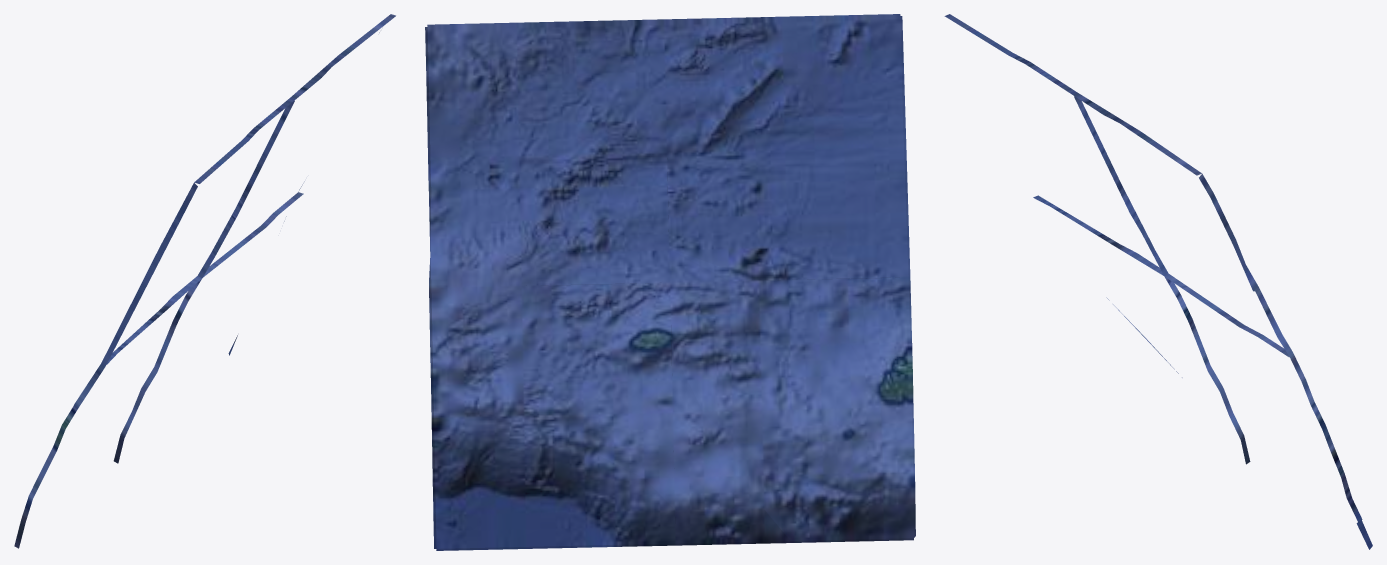
3 renders of one model, left to right at view 1: azimuth 30°, elevation 25°; view 2: azimuth 150°, elevation 25°; view 3: azimuth 270°, elevation 25°, orthographic. The views are drawn at different scales.
Size of the model in its own units: 155677 by 145013 by 133270.
1 material, 1 textured.
